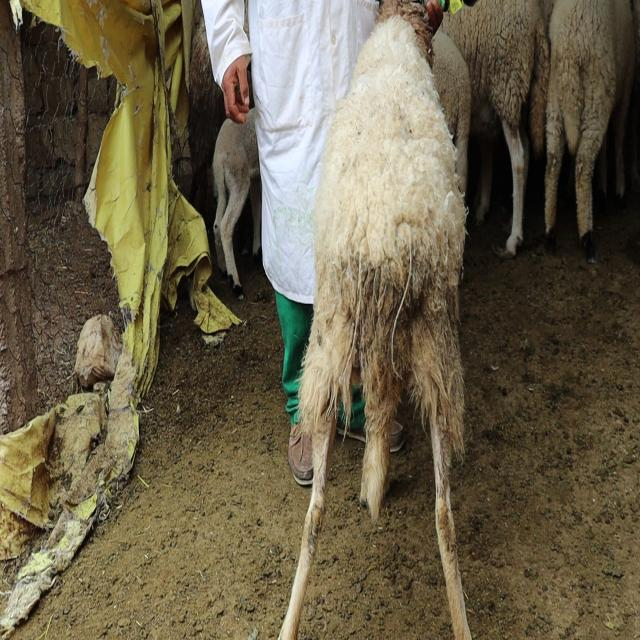Score_2: (279, 0, 471, 639)
